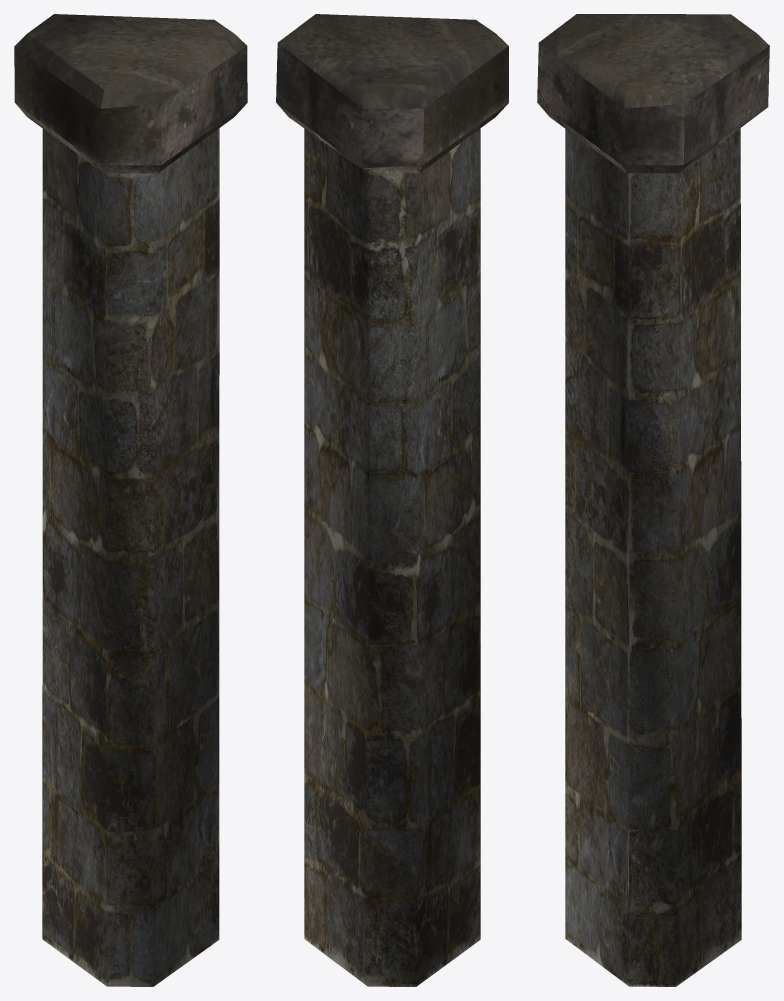
The model's file is MCastle_MasonryPillar_01_Hex.fbx.
The picture shows the model from 3 angles, left to right: view 1: azimuth 30°, elevation 25°; view 2: azimuth 150°, elevation 25°; view 3: azimuth 270°, elevation 25°; orthographic projection.
Parts seen in each view (by area): view 1: MCastle_MasonryPillar_01_Hex_LOD0, MCastle_MasonryPillar_01_Top_Hex_LOD0; view 2: MCastle_MasonryPillar_01_Hex_LOD0, MCastle_MasonryPillar_01_Top_Hex_LOD0; view 3: MCastle_MasonryPillar_01_Hex_LOD0, MCastle_MasonryPillar_01_Top_Hex_LOD0.
Boxes of the visible parts, bbox=[...] form: MCastle_MasonryPillar_01_Hex_LOD0: bbox=[42, 128, 219, 986]; MCastle_MasonryPillar_01_Top_Hex_LOD0: bbox=[14, 14, 247, 173]; MCastle_MasonryPillar_01_Hex_LOD0: bbox=[304, 128, 480, 986]; MCastle_MasonryPillar_01_Top_Hex_LOD0: bbox=[276, 14, 508, 173]; MCastle_MasonryPillar_01_Hex_LOD0: bbox=[565, 128, 741, 986]; MCastle_MasonryPillar_01_Top_Hex_LOD0: bbox=[537, 14, 769, 173].
Size of what is drawn, in the model's own units: 30.59 by 151 by 35.16.
